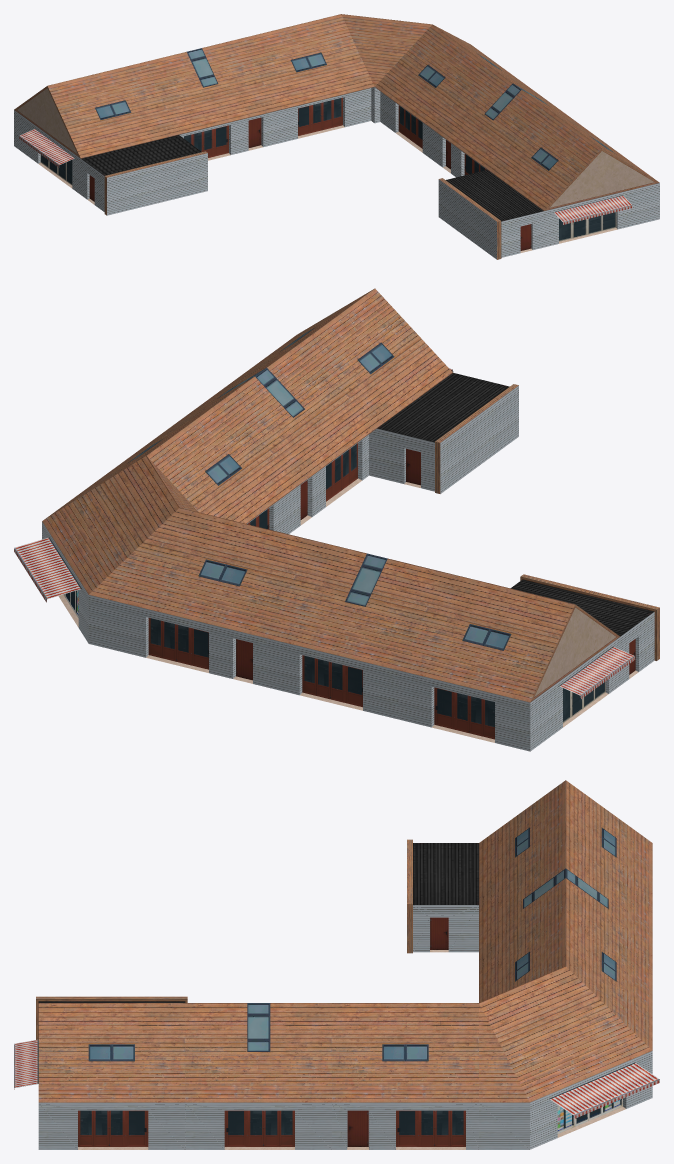
Rendered from WoodHouse_B.obj.
The picture shows the model from 3 angles, top to bottom: view 1: azimuth 30°, elevation 25°; view 2: azimuth 150°, elevation 25°; view 3: azimuth 270°, elevation 25°; orthographic projection. The views are drawn at different scales.
Size of the model in its own units: 51.93 by 9.8 by 52.06.
2 materials, 2 textured.
